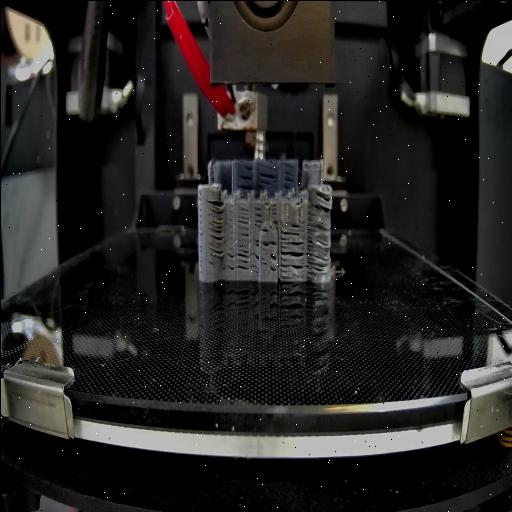cracks: (306, 222, 330, 275), (278, 240, 304, 276), (207, 200, 222, 258), (310, 189, 332, 213), (254, 169, 276, 189), (235, 164, 252, 188), (237, 205, 248, 239), (250, 236, 260, 270), (236, 244, 248, 270), (280, 170, 294, 191), (279, 223, 299, 236), (224, 241, 232, 273), (269, 204, 278, 224), (268, 252, 276, 274), (252, 205, 260, 227), (260, 238, 276, 246), (260, 227, 268, 231)
